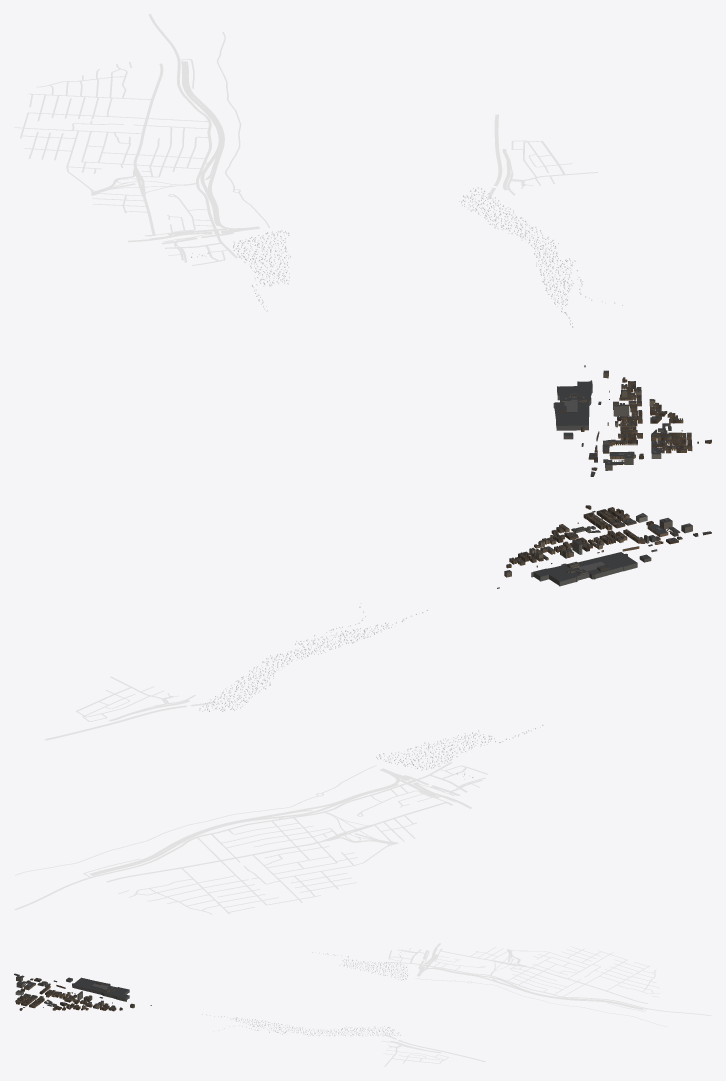
The model's file is manhattan_+00_+03.glb.
3 views of the same model, one above another, from view 1: azimuth 30°, elevation 25°; view 2: azimuth 150°, elevation 25°; view 3: azimuth 270°, elevation 25° (orthographic). The views are drawn at different scales.
Visible parts, largest first — view 1: ROAD_+00_+03, BLD_lowrise_+00_+03, TREE_+00_+03, BLD_midrise_+00_+03; view 2: ROAD_+00_+03, BLD_lowrise_+00_+03, BLD_midrise_+00_+03, TREE_+00_+03; view 3: ROAD_+00_+03, BLD_lowrise_+00_+03, TREE_+00_+03, BLD_midrise_+00_+03.
Part boxes in pixels (left/top/right/bottom): ROAD_+00_+03: left=14, top=14, right=598, bottom=265; BLD_lowrise_+00_+03: left=563, top=365, right=711, bottom=476; TREE_+00_+03: left=191, top=187, right=623, bottom=327; BLD_midrise_+00_+03: left=553, top=370, right=671, bottom=470; ROAD_+00_+03: left=14, top=676, right=488, bottom=914; BLD_lowrise_+00_+03: left=497, top=505, right=711, bottom=588; BLD_midrise_+00_+03: left=504, top=513, right=692, bottom=586; TREE_+00_+03: left=199, top=603, right=543, bottom=779; ROAD_+00_+03: left=381, top=943, right=711, bottom=1066; BLD_lowrise_+00_+03: left=14, top=973, right=151, bottom=1011; TREE_+00_+03: left=202, top=951, right=408, bottom=1036; BLD_midrise_+00_+03: left=15, top=976, right=134, bottom=1009.
Bounding box in the file's own units: 2836 × 65.81 × 6773.
